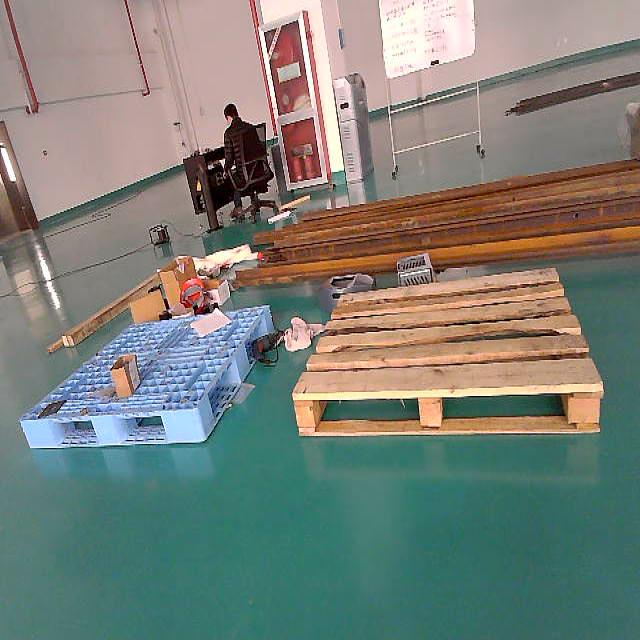euro: (294, 268, 603, 436)
